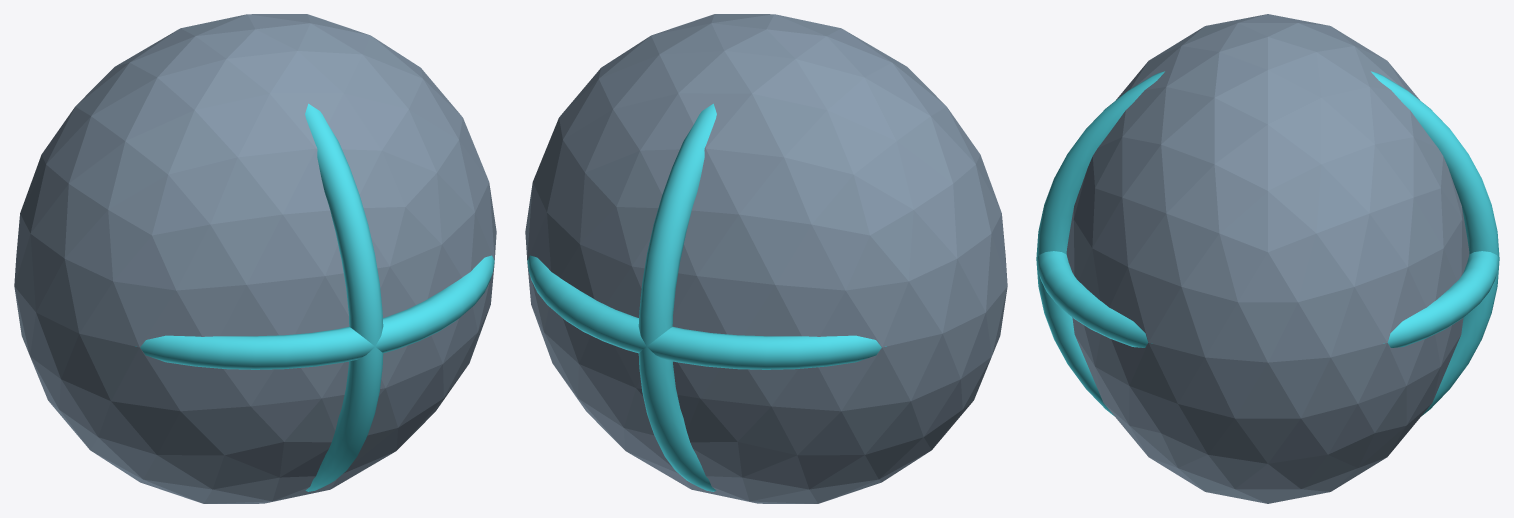
File: trinket.glb
3 renders of one model, left to right at view 1: azimuth 30°, elevation 25°; view 2: azimuth 150°, elevation 25°; view 3: azimuth 270°, elevation 25°, orthographic. The views are drawn at different scales.
Visible parts, largest first — view 1: TRINKET_BODY_PRIMARY, TRINKET_CAGE_C_ACCENT, TRINKET_CAGE_A_ACCENT; view 2: TRINKET_BODY_PRIMARY, TRINKET_CAGE_C_ACCENT, TRINKET_CAGE_A_ACCENT; view 3: TRINKET_BODY_PRIMARY, TRINKET_CAGE_C_ACCENT, TRINKET_CAGE_A_ACCENT.
Boxes of the visible parts, x1,y1,x2,y2 form: TRINKET_BODY_PRIMARY: (14,14,496,503); TRINKET_CAGE_C_ACCENT: (305,103,383,491); TRINKET_CAGE_A_ACCENT: (135,255,494,369); TRINKET_BODY_PRIMARY: (525,14,1007,503); TRINKET_CAGE_C_ACCENT: (638,103,716,491); TRINKET_CAGE_A_ACCENT: (527,255,886,369); TRINKET_BODY_PRIMARY: (1066,14,1469,503); TRINKET_CAGE_C_ACCENT: (1036,71,1499,415); TRINKET_CAGE_A_ACCENT: (1036,251,1499,347).
Size of the model in its own units: 1.64 by 1.64 by 1.55.
